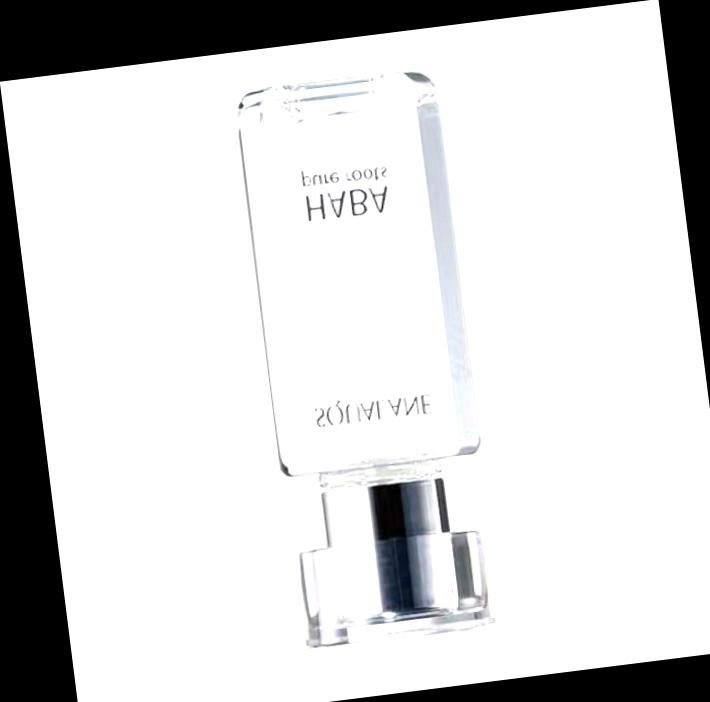cosmetic: (231, 68, 505, 652)
